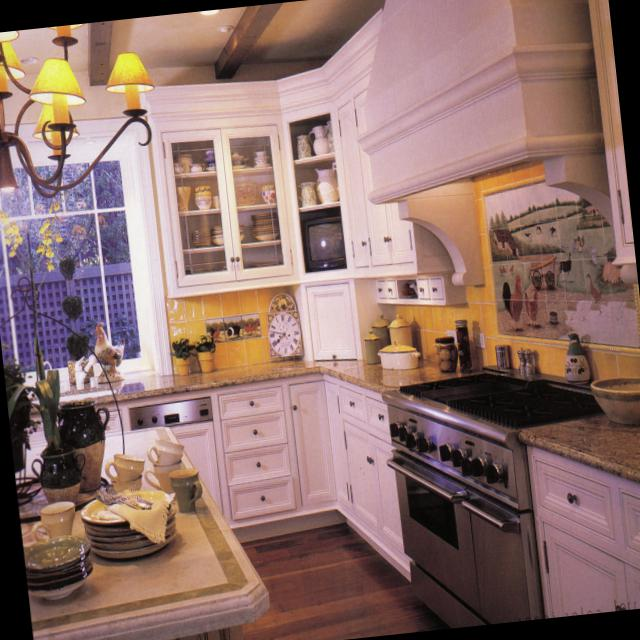2001: (0, 117, 153, 386)
bird-shaped jar: (563, 334, 593, 381)
bowl -X: (591, 374, 640, 421), (234, 181, 258, 203)
bowls: (197, 186, 212, 208), (261, 183, 276, 203)
cabinet door: (587, 0, 637, 285)
cabinets: (142, 7, 467, 359), (211, 373, 410, 580), (526, 446, 640, 617)
canister: (296, 134, 310, 159)
ceiling beam: (0, 0, 385, 85)
ceiling fan: (213, 2, 282, 79), (87, 21, 113, 84)
ceiling vent: (217, 22, 233, 32)
chandelier: (0, 24, 155, 198)
clock crop: (266, 291, 304, 363)
counter: (27, 355, 483, 413), (518, 415, 640, 483)
dish towels: (97, 499, 169, 541)
dishwasher: (128, 393, 225, 516)
faucet handle: (74, 355, 99, 388)
floor -X: (241, 521, 448, 640)
forks: (97, 484, 150, 507)
jar -X: (434, 332, 457, 372), (456, 317, 472, 369), (390, 311, 413, 338), (364, 328, 380, 364), (495, 343, 511, 368), (373, 312, 387, 337), (176, 151, 192, 172)
light fixture: (202, 9, 220, 13)
light switch: (474, 330, 485, 348)
mug: (32, 498, 75, 543), (170, 468, 201, 510), (209, 194, 220, 207)
mugs: (143, 438, 186, 491), (106, 454, 142, 486)
objects: (401, 280, 417, 297)
oven window: (358, 0, 613, 284)
pitcher: (316, 164, 337, 203), (309, 122, 330, 156), (298, 181, 317, 206)
plant -x: (0, 197, 66, 440), (5, 356, 41, 473)
plates: (83, 490, 179, 554)
pot hanger: (58, 399, 109, 489), (33, 445, 82, 503), (379, 341, 419, 367)
potted plant: (58, 255, 90, 379), (172, 335, 193, 374), (197, 332, 216, 370)
rooster: (95, 319, 126, 381)
salt and pepper: (517, 346, 532, 372)
saucer: (204, 148, 215, 161), (230, 149, 244, 159), (241, 155, 252, 166), (231, 159, 244, 168), (204, 161, 216, 170)
sink basin: (60, 387, 116, 400)
stack of bowls: (28, 534, 90, 599), (250, 208, 280, 239), (211, 223, 223, 244), (239, 223, 244, 242)
stack of plates: (191, 225, 211, 247)
stove burner: (381, 363, 603, 627)
table -X: (14, 424, 272, 640)
tea pot: (173, 158, 186, 173)
teacup: (188, 160, 205, 173)
teacups and saucers: (252, 147, 271, 165)
television cabinet: (306, 214, 346, 271)
tray occluded: (16, 472, 108, 522)
vase -X: (177, 184, 191, 208), (327, 117, 334, 152)
wall clock: (396, 162, 640, 382)
